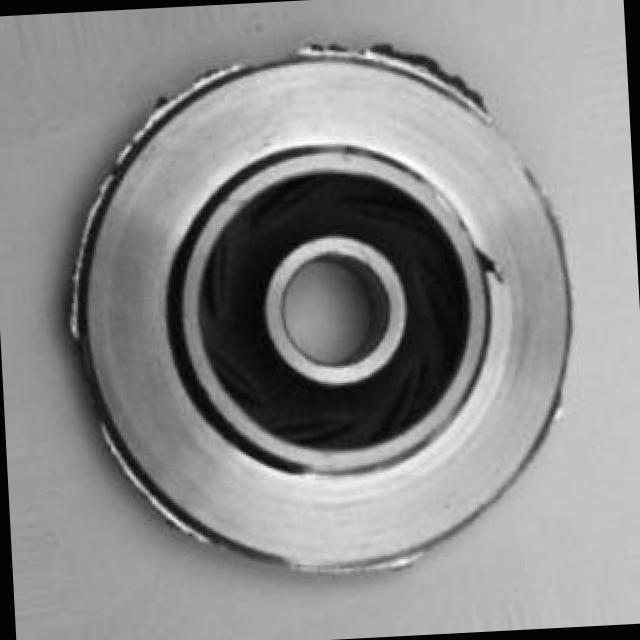Defect: (467, 238, 510, 296)
